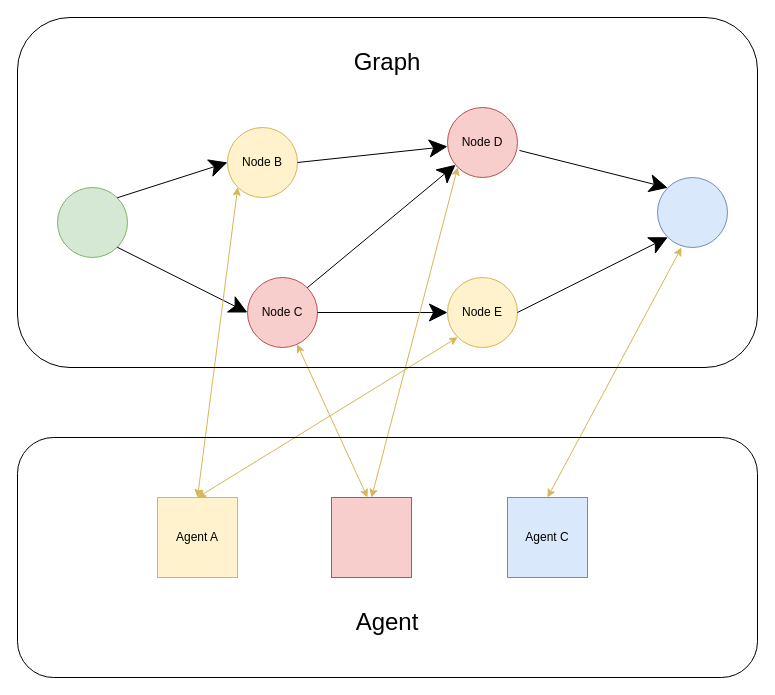
This 775x695 diagram has some shape labels left out. Here are the shapes that lost their labels. From the top down, the centre of each, then its label:
(x=92, y=222): Node A
(x=692, y=212): Node F
(x=371, y=537): Agent B
